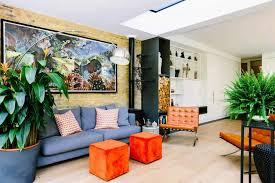chair: (217, 113, 275, 175), (160, 104, 201, 144)
light: (105, 41, 136, 74)
sofa: (33, 104, 141, 159)
table: (242, 123, 275, 183), (159, 100, 210, 134), (89, 139, 128, 182), (130, 134, 163, 162), (143, 122, 160, 137)
